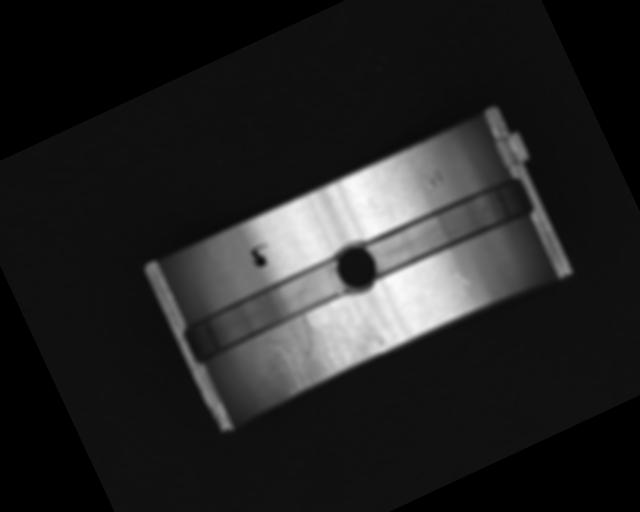blot: (246, 242, 274, 270)
bruise: (424, 168, 446, 188)
gap: (182, 254, 355, 364), (361, 172, 535, 281)
hole: (326, 237, 383, 301)
nick: (434, 247, 470, 294)
scratch: (256, 289, 387, 398)
